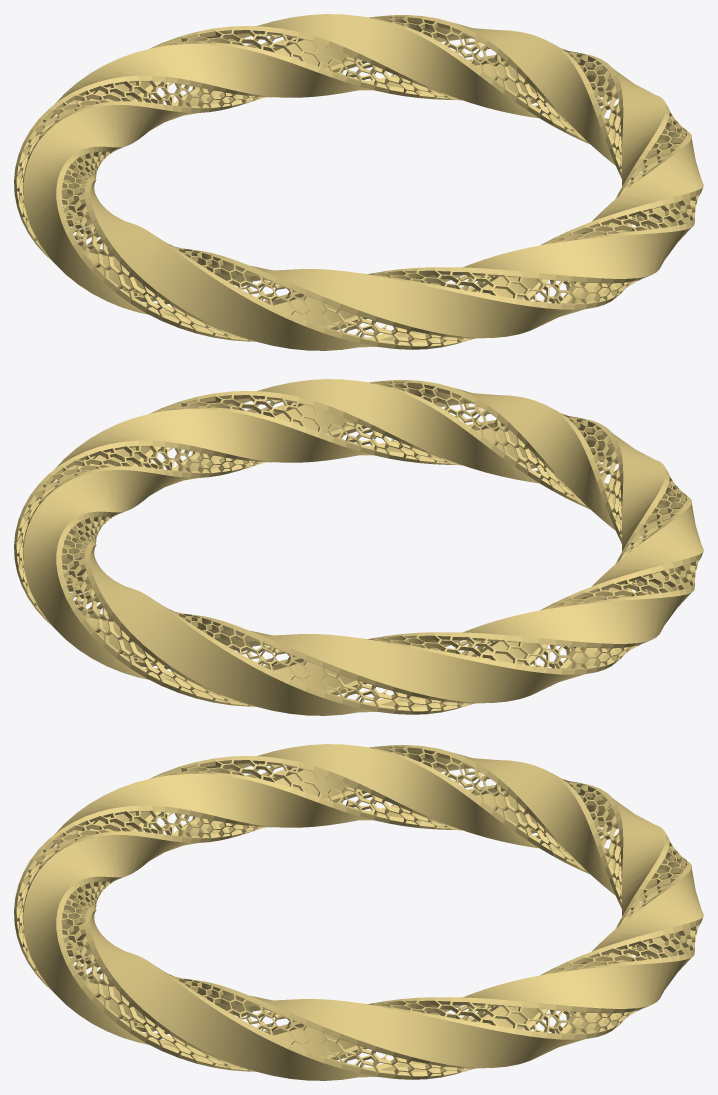
Rendered from bracelet_blender.glb.
The picture shows the model from 3 angles, top to bottom: view 1: azimuth 30°, elevation 25°; view 2: azimuth 150°, elevation 25°; view 3: azimuth 270°, elevation 25°; orthographic projection.
Visible parts, largest first — view 1: Object01; view 2: Object01; view 3: Object01.
Boxes of the visible parts, box(x1,y1,x2,y2) form: Object01: box(14, 14, 703, 350); Object01: box(14, 379, 703, 715); Object01: box(14, 744, 703, 1080).
Size of the model in its own units: 45.02 by 5.4 by 45.39.
